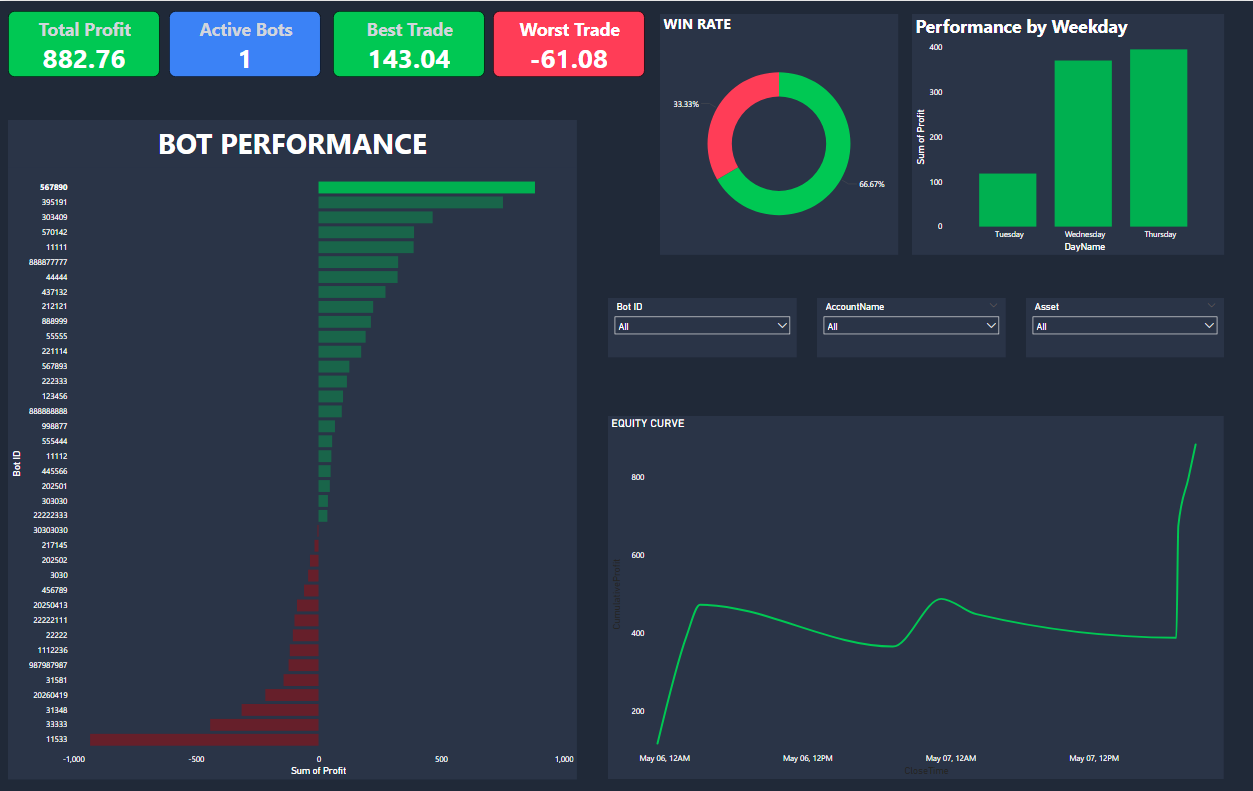

This screenshot's page, from the dashboard's own definition file:
{"tool":"powerbi","page":{"name":"Executive dasboard","canvas":[1900,1200],"ordinal":1},"visuals":[{"type":"barChart","title":"Bot Performance","fields":{"Category":["processed_data.MagicNumber"],"Y":["Sum(processed_data.Profit)"]},"box":[12,252,862,928],"z":4000},{"type":"slicer","fields":{"Values":["processed_data.AccountName"]},"box":[1237.9,450,286.4,90],"z":5000},{"type":"slicer","fields":{"Values":["processed_data.Symbol"]},"box":[1554.5,450,300,90],"z":6000},{"type":"clusteredColumnChart","title":"Performance by Weekday","fields":{"Category":["processed_data.DayName"],"Y":["Sum(processed_data.Profit)"]},"box":[1381.8,19.7,472.7,365.2],"z":8000},{"type":"card","fields":{"Values":["Sum(processed_data.Profit)"]},"box":[12.1,15.2,230.3,100],"z":8001},{"type":"card","fields":{"Values":["Count(processed_data.MagicNumber)"]},"box":[256.1,15.2,230.3,100],"z":8002},{"type":"card","fields":{"Values":["Max(processed_data.Profit)"]},"box":[504.5,15.2,230.3,100],"z":8003},{"type":"card","fields":{"Values":["Min(processed_data.Profit)"]},"box":[747,15.2,230.3,100],"z":8004},{"type":"textbox","box":[11.7,180,861.7,71.7],"z":8005},{"type":"slicer","fields":{"Values":["processed_data.MagicNumber"]},"box":[921.2,450,286.4,90],"z":8006},{"type":"donutChart","title":"WIN RATE","fields":{"Category":["processed_data.TradeResult"],"Y":["Count(processed_data.Ticket)"]},"box":[1000,19.7,360.6,365.2],"z":8009},{"type":"lineChart","title":"EQUITY CURVE","fields":{"Y":["processed_data.CumulativeProfit"],"Category":["processed_data.CloseTime"]},"box":[921.2,628.8,933.3,550],"z":8010}]}

Visuals, with their boxes in screenshot pixels (x1, y1, x2, y2), scaled from the page's 1900x1200 canvas onto the 1253x791 screenshot:
"Bot Performance" barChart: pyautogui.locateOnScreen(8, 166, 576, 778)
slicer - processed_data.AccountName: pyautogui.locateOnScreen(816, 297, 1005, 356)
slicer - processed_data.Symbol: pyautogui.locateOnScreen(1025, 297, 1223, 356)
"Performance by Weekday" clusteredColumnChart: pyautogui.locateOnScreen(911, 13, 1223, 254)
card - Sum(processed_data.Profit): pyautogui.locateOnScreen(8, 10, 160, 76)
card - Count(processed_data.MagicNumber): pyautogui.locateOnScreen(169, 10, 321, 76)
card - Max(processed_data.Profit): pyautogui.locateOnScreen(333, 10, 485, 76)
card - Min(processed_data.Profit): pyautogui.locateOnScreen(493, 10, 645, 76)
textbox: pyautogui.locateOnScreen(8, 119, 576, 166)
slicer - processed_data.MagicNumber: pyautogui.locateOnScreen(608, 297, 796, 356)
"WIN RATE" donutChart: pyautogui.locateOnScreen(659, 13, 897, 254)
"EQUITY CURVE" lineChart: pyautogui.locateOnScreen(608, 414, 1223, 777)
